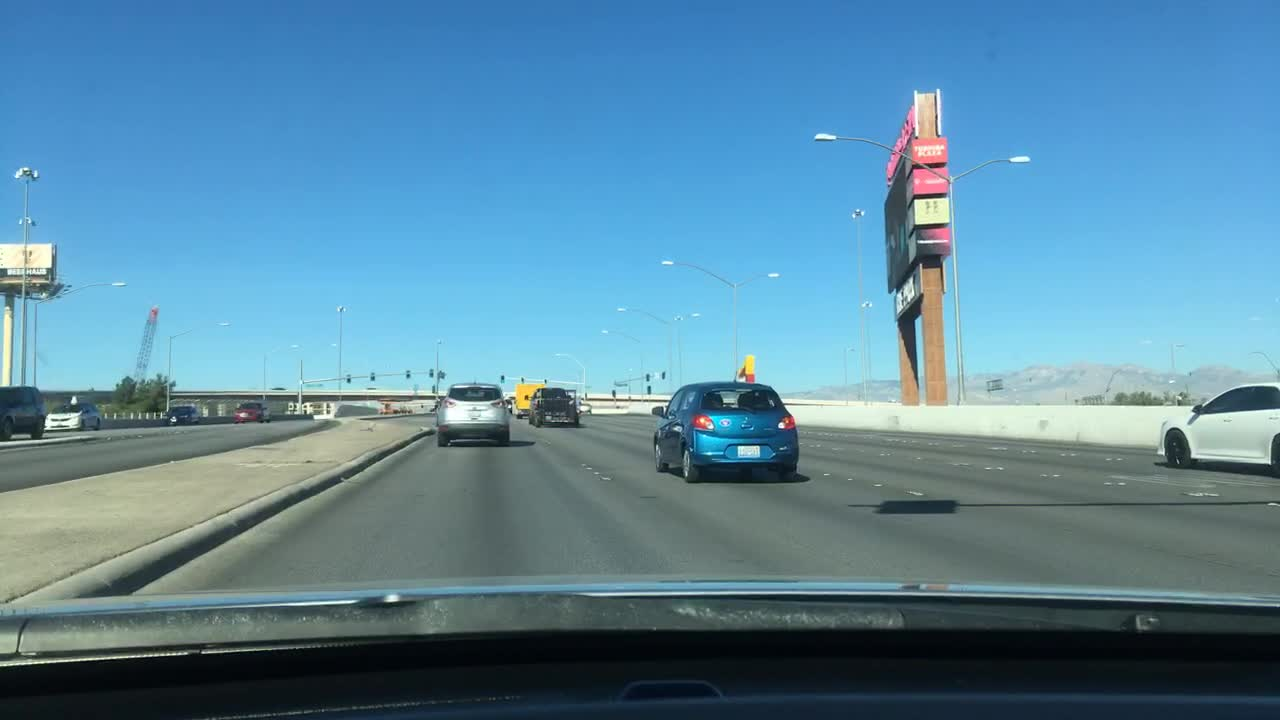car: (647, 380, 801, 482), (1151, 381, 1278, 482), (432, 384, 511, 449), (0, 383, 47, 447), (44, 394, 108, 431), (233, 400, 277, 425), (162, 404, 205, 426), (506, 394, 526, 416)
traffic light: (499, 374, 506, 386), (427, 369, 434, 379), (369, 370, 375, 381), (405, 368, 411, 379), (345, 373, 351, 383)
truck: (527, 389, 582, 430), (516, 381, 551, 416)
